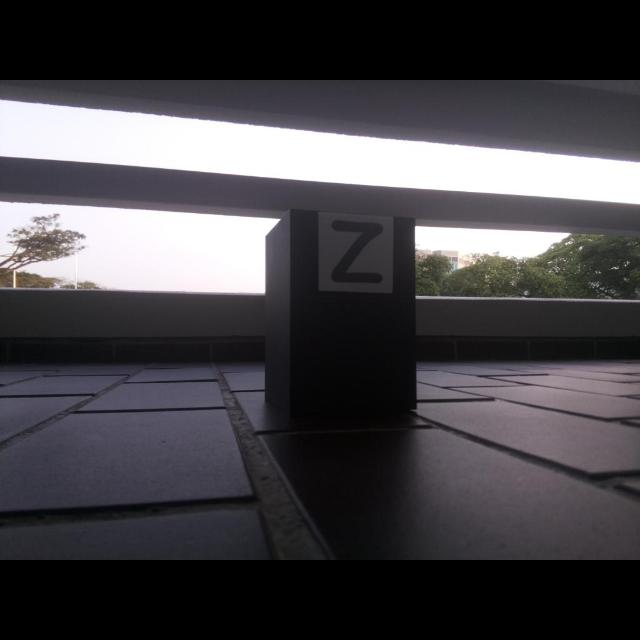Z: (331, 220, 383, 283)
